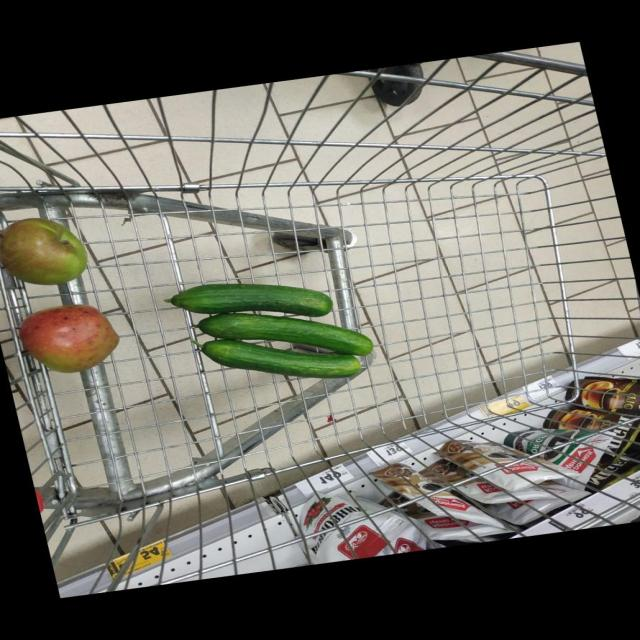Apple: (19, 304, 119, 373), (0, 219, 86, 286)
Cucumber: (196, 312, 372, 356), (199, 340, 361, 379), (167, 283, 333, 317)
